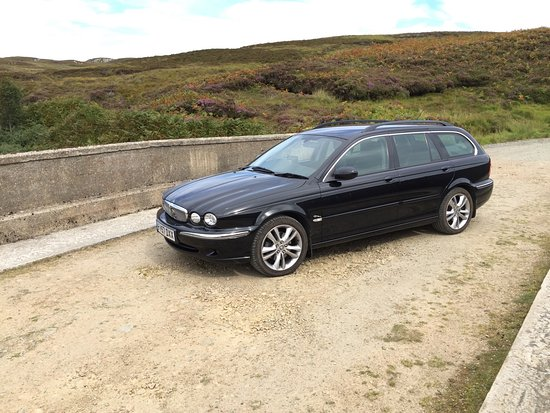car: (156, 122, 495, 261)
